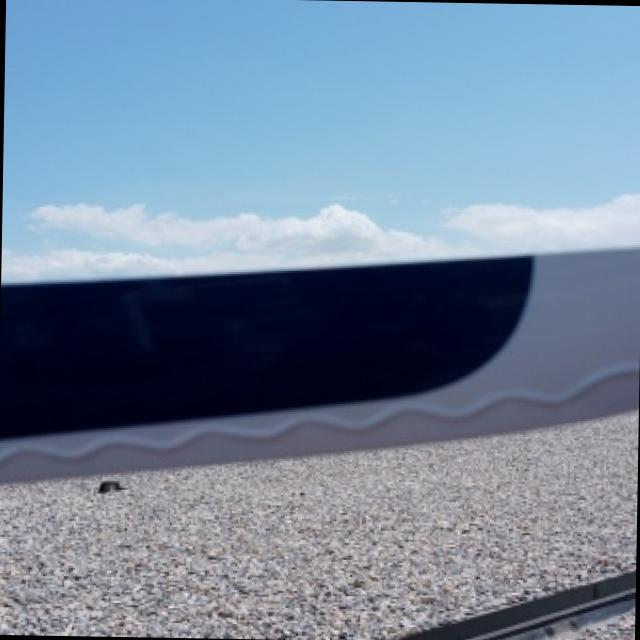healthy: (0, 246, 640, 479)
